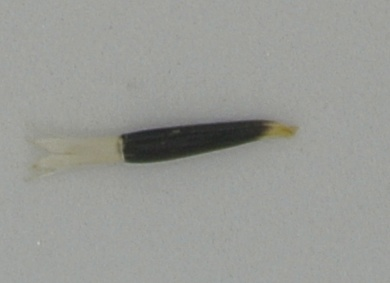เมล็ดดีติดกัน: (21, 117, 300, 184)
